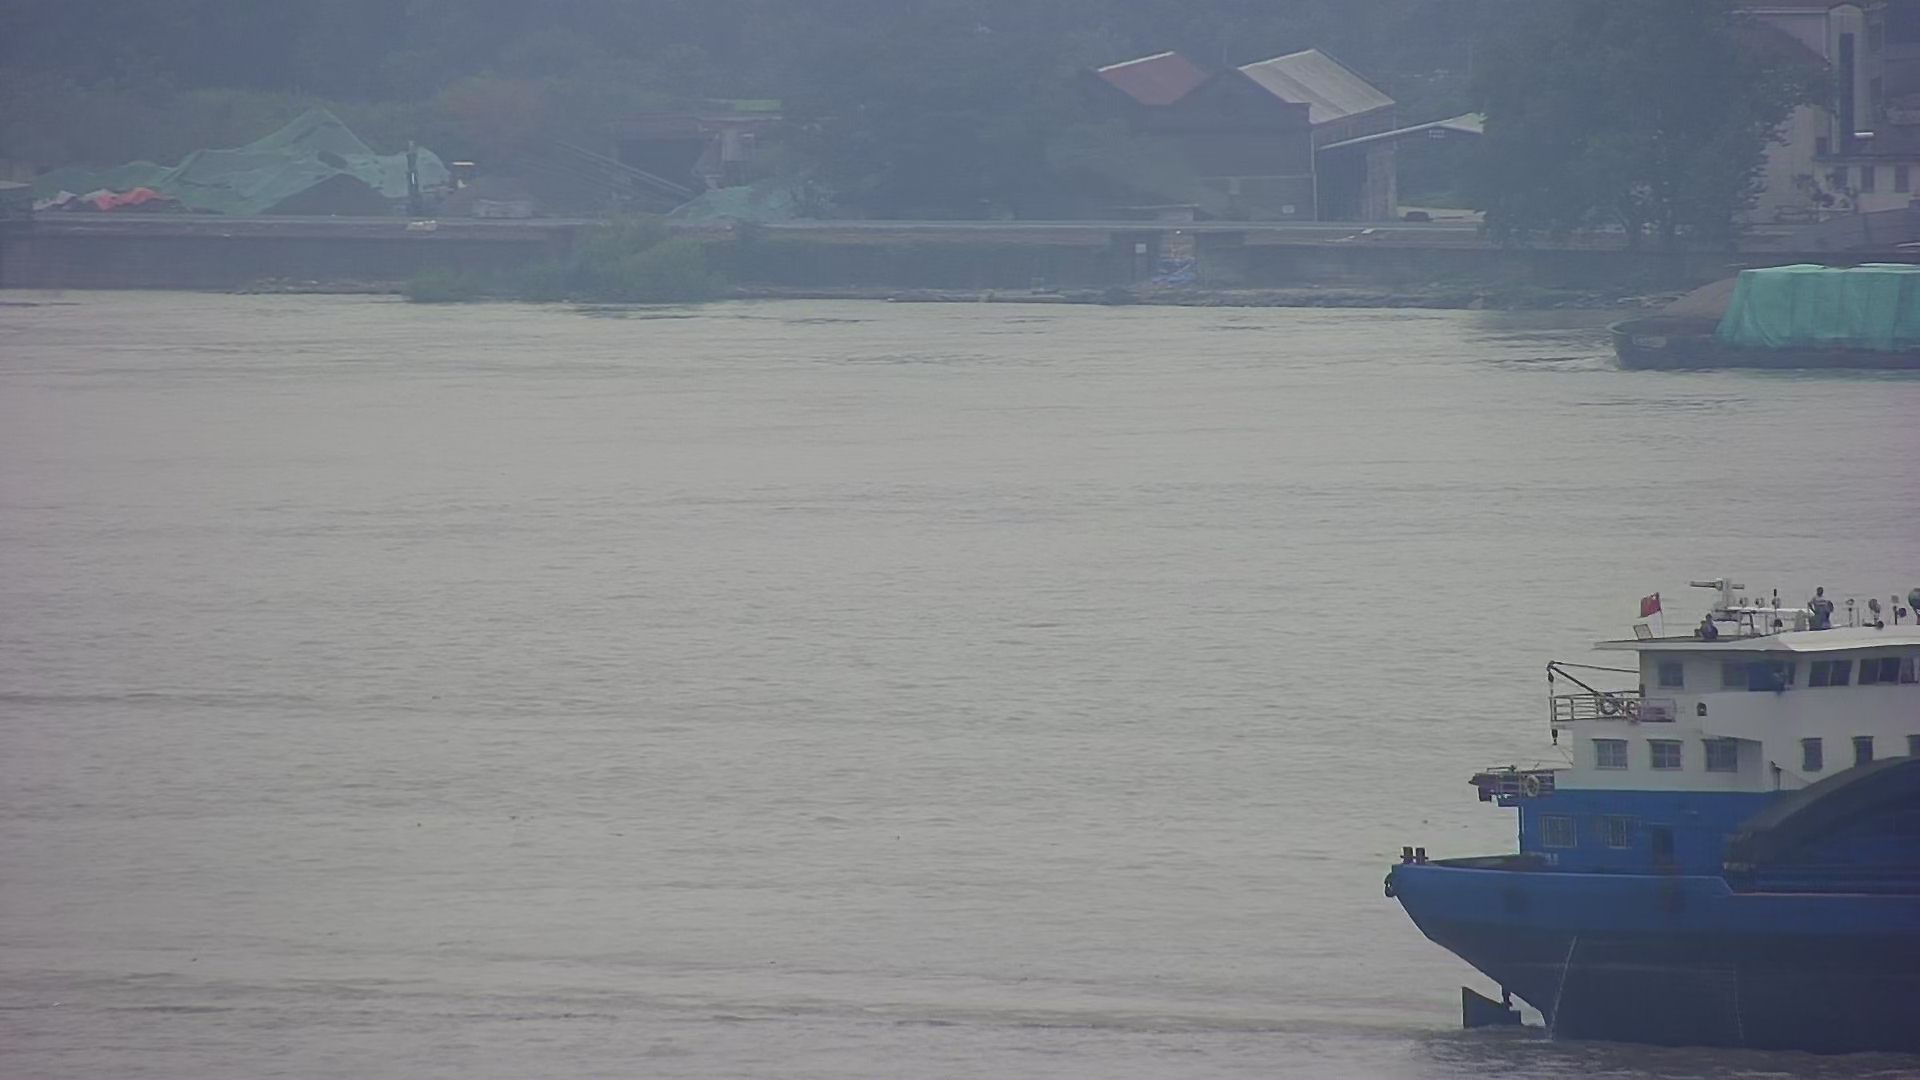ship: (1387, 564, 1920, 1058), (1618, 247, 1920, 373)
